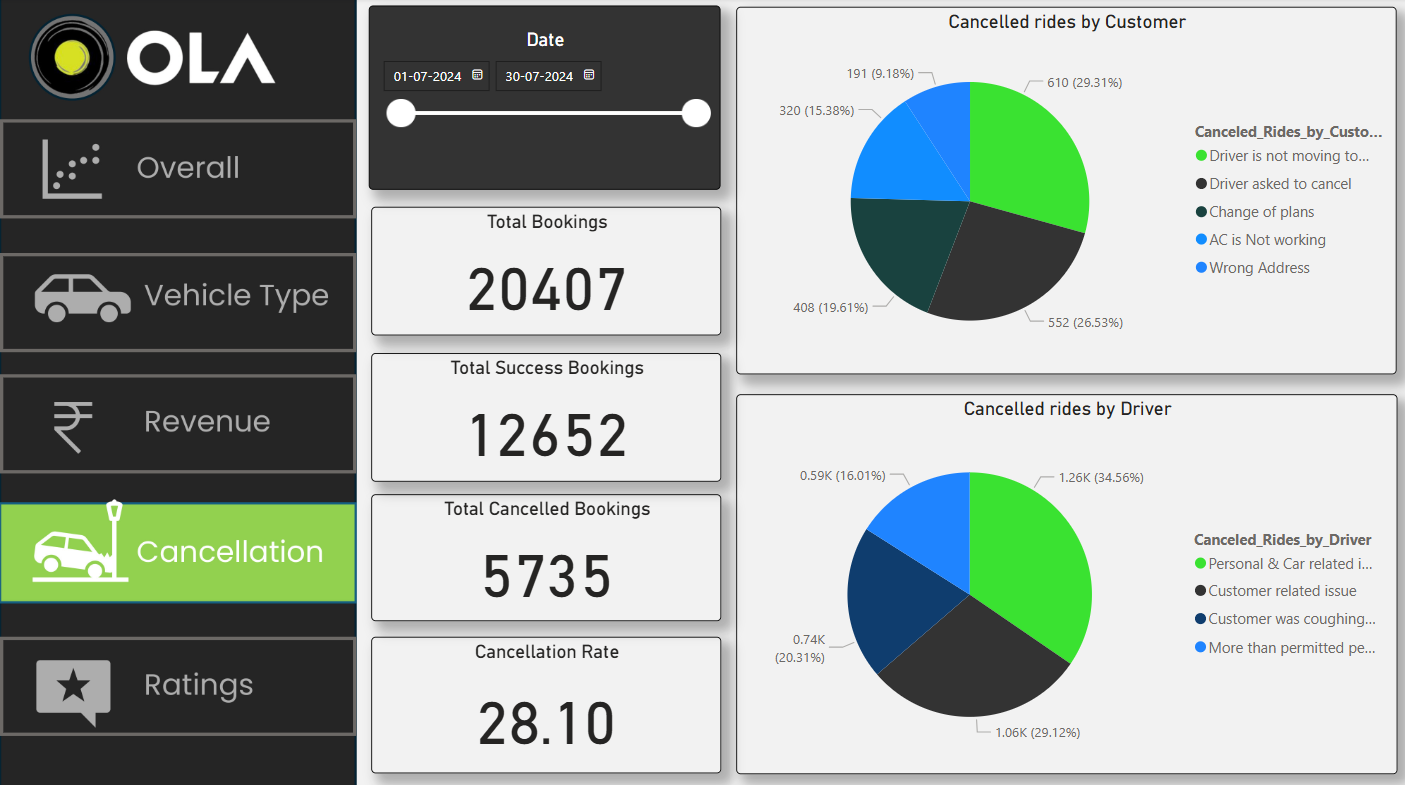

This screenshot's page, from the dashboard's own definition file:
{"tool":"powerbi","page":{"name":"Cancellation","canvas":[1280,720],"ordinal":3},"visuals":[{"type":"actionButton","box":[0,110,323.3,90],"z":0},{"type":"actionButton","box":[0,341.7,323.3,90],"z":1000},{"type":"actionButton","box":[0,231.7,323.3,90],"z":2000},{"type":"actionButton","box":[0,580,323.3,90],"z":3000},{"type":"pieChart","title":"Cancelled rides by Customer","fields":{"Y":["CountNonNull(July.Canceled_Rides_by_Customer)"],"Category":["July.Canceled_Rides_by_Customer"]},"box":[668.5,7.7,599.2,333.8],"z":4000},{"type":"pieChart","title":"Cancelled rides by Driver","fields":{"Y":["CountNonNull(July.Canceled_Rides_by_Driver)"],"Category":["July.Canceled_Rides_by_Driver"]},"box":[668.3,359.5,599.7,344.4],"z":5000},{"type":"slicer","title":"Date","fields":{"Values":["July.Date"]},"box":[335,7.3,319,167.5],"z":6000},{"type":"card","title":"Total Bookings","fields":{"Values":["CountNonNull(July.Booking_ID)"]},"box":[336.5,189.3,317.5,116.5],"z":7000},{"type":"card","title":"Total Success Bookings","fields":{"Values":["CountNonNull(July.Booking_ID)"]},"box":[336.5,321.9,317.5,116.5],"z":8000},{"type":"card","title":"Total Cancelled Bookings","fields":{"Values":["CountNonNull(July.Booking_ID)"]},"box":[336.5,450.1,317.5,115.1],"z":9000},{"type":"card","title":"Cancellation Rate","fields":{"Values":["July.Cancellation Rate"]},"box":[336.5,579.7,317.5,123.8],"z":10000}]}

Visuals, with their boxes in screenshot pixels (x1, y1, x2, y2), scaled from the page's 1280x720 canvas onto the 1405x785 screenshot:
actionButton: bbox=(0, 120, 355, 218)
actionButton: bbox=(0, 373, 355, 471)
actionButton: bbox=(0, 253, 355, 351)
actionButton: bbox=(0, 632, 355, 730)
"Cancelled rides by Customer" pieChart: bbox=(734, 8, 1391, 372)
"Cancelled rides by Driver" pieChart: bbox=(734, 392, 1392, 767)
"Date" slicer: bbox=(368, 8, 718, 191)
"Total Bookings" card: bbox=(369, 206, 718, 333)
"Total Success Bookings" card: bbox=(369, 351, 718, 478)
"Total Cancelled Bookings" card: bbox=(369, 491, 718, 616)
"Cancellation Rate" card: bbox=(369, 632, 718, 767)
